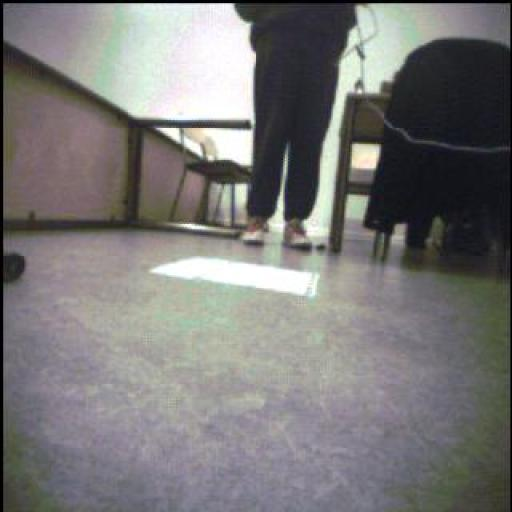Pad: (152, 259, 320, 299)
